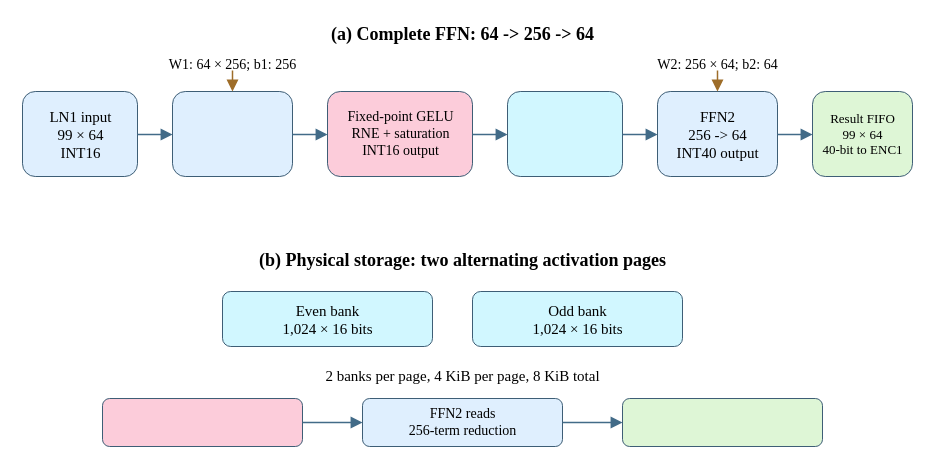
Image size: 930x464. Some labels were removed from this diagram. The shapes that lost their labels are listed below. From the top down, each one's centre as x and y in pixels, then its label:
point (232, 133): FFN1 64 -> 256 INT40 output
point (564, 133): Activation SRAM INT16
point (202, 422): GELU writes current row block
point (722, 422): Release and reuse for the next row block
